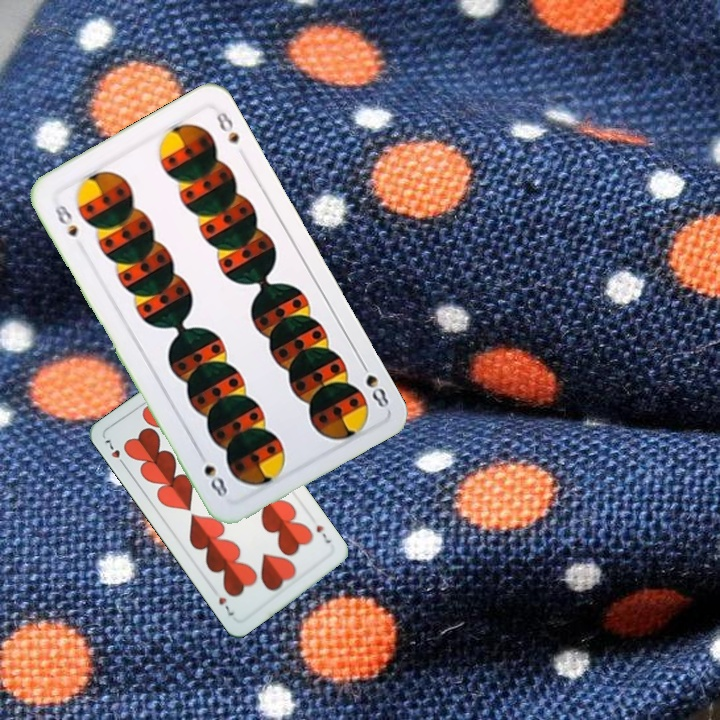H7: (100, 435, 129, 470), (312, 521, 333, 546)
S8: (356, 356, 392, 411), (50, 200, 81, 240)
